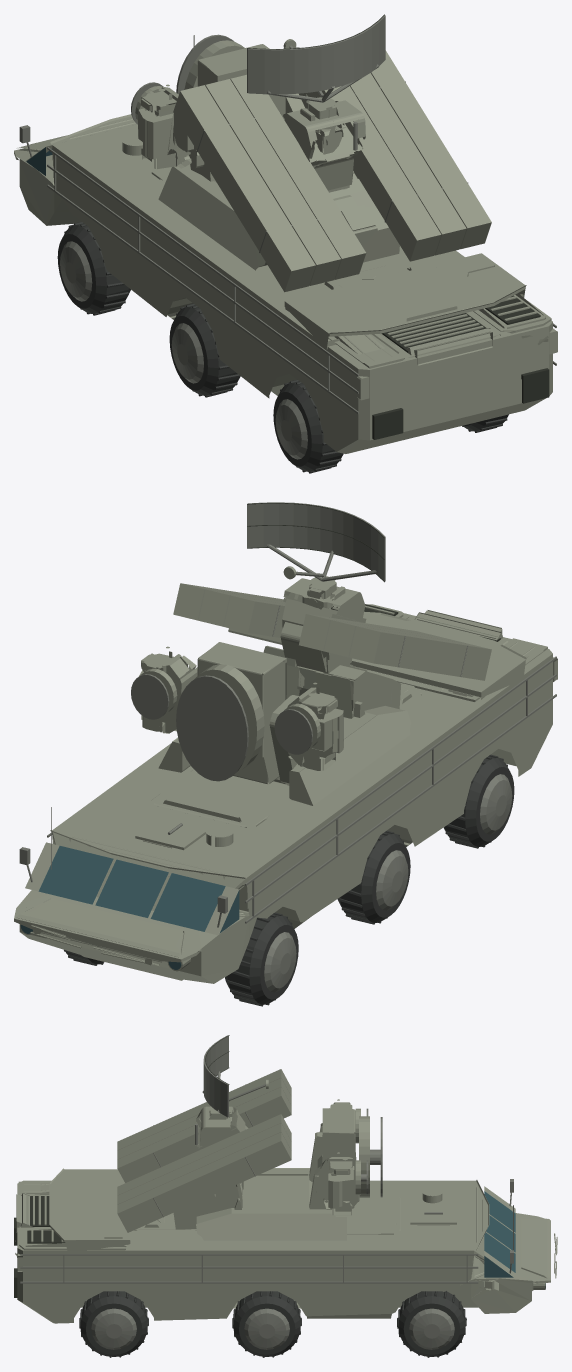
Rendered from vehicle_adapter.glb.
The picture shows the model from 3 angles, top to bottom: view 1: azimuth 30°, elevation 25°; view 2: azimuth 150°, elevation 25°; view 3: azimuth 270°, elevation 25°; orthographic projection. The views are drawn at different scales.
Parts seen in each view (by area): view 1: HullArmour, SixFixedMissileContainers, HullHatchesGrillesGlazingLightsAndEquipment, SixPneumaticWheelsAndSuspension, RotatingPlatform, TrackingRadarAssemblies, SearchRadarReflector, SearchRadarMount; view 2: HullArmour, HullHatchesGrillesGlazingLightsAndEquipment, TrackingRadarAssemblies, RotatingPlatform, SixPneumaticWheelsAndSuspension, SixFixedMissileContainers, SearchRadarReflector, SearchRadarMount; view 3: HullArmour, HullHatchesGrillesGlazingLightsAndEquipment, SixFixedMissileContainers, SixPneumaticWheelsAndSuspension, RotatingPlatform, TrackingRadarAssemblies, SearchRadarReflector.
Boxes of the visible parts, x1,y1,x2,y2 form: HullArmour: (14, 124, 557, 453); SixFixedMissileContainers: (173, 50, 491, 292); HullHatchesGrillesGlazingLightsAndEquipment: (16, 35, 556, 439); SixPneumaticWheelsAndSuspension: (57, 222, 508, 473); RotatingPlatform: (158, 93, 399, 270); TrackingRadarAssemblies: (131, 34, 307, 169); SearchRadarReflector: (247, 14, 385, 102); SearchRadarMount: (300, 97, 357, 154); HullArmour: (14, 604, 557, 983); HullHatchesGrillesGlazingLightsAndEquipment: (17, 604, 556, 971); TrackingRadarAssemblies: (131, 642, 343, 784); RotatingPlatform: (158, 578, 411, 805); SixPneumaticWheelsAndSuspension: (64, 754, 514, 1006); SixFixedMissileContainers: (173, 583, 491, 680); SearchRadarReflector: (247, 502, 385, 582); SearchRadarMount: (302, 576, 345, 610); HullArmour: (16, 1180, 550, 1323); HullHatchesGrillesGlazingLightsAndEquipment: (14, 1168, 557, 1297); SixFixedMissileContainers: (117, 1069, 291, 1232); SixPneumaticWheelsAndSuspension: (79, 1291, 466, 1357); RotatingPlatform: (173, 1106, 346, 1240); TrackingRadarAssemblies: (316, 1099, 382, 1216); SearchRadarReflector: (202, 1035, 268, 1117).
Size of the model in its own units: 3.1 by 4.96 by 9.24.
